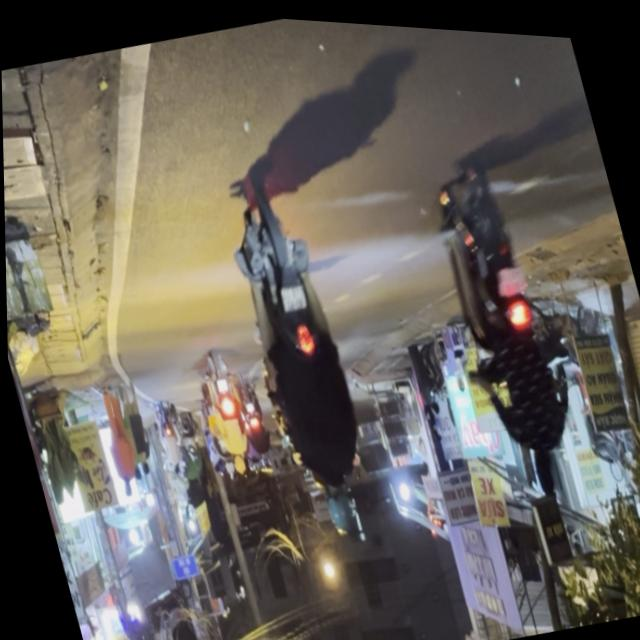helmet: (318, 473, 363, 535)
licenseplate: (209, 160, 391, 546), (417, 134, 593, 508)
motorcyclist: (527, 438, 563, 494)
nohelmet: (494, 256, 529, 292), (279, 280, 309, 310)
